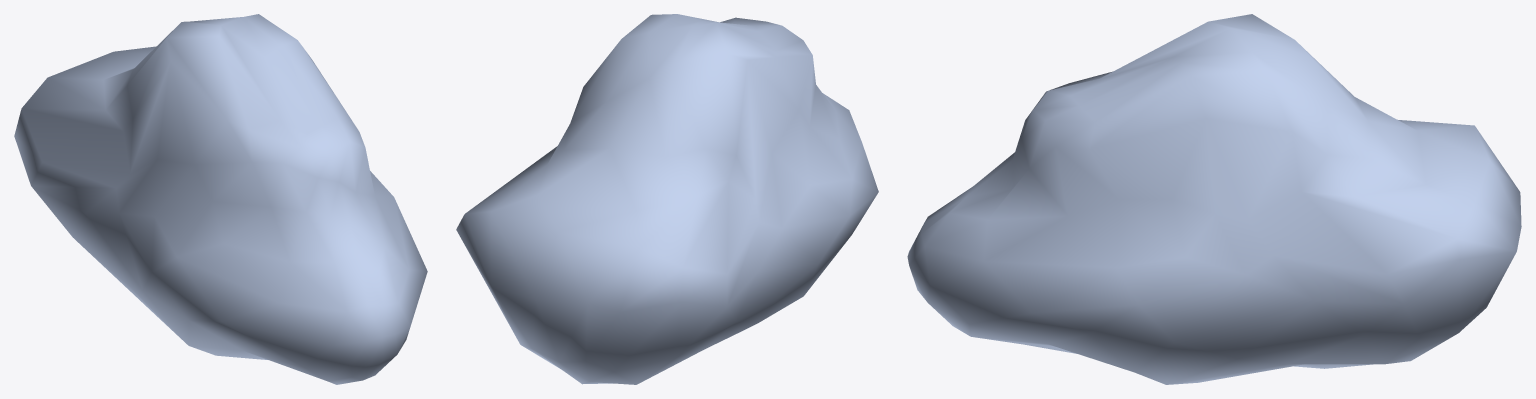
Rendered from oblak.fbx.
The picture shows the model from 3 angles, left to right: view 1: azimuth 30°, elevation 25°; view 2: azimuth 150°, elevation 25°; view 3: azimuth 270°, elevation 25°; orthographic projection. The views are drawn at different scales.
Parts seen in each view (by area): view 1: Icosphere; view 2: Icosphere; view 3: Icosphere.
Boxes of the visible parts, bbox=[...] form: Icosphere: bbox=[14, 14, 427, 384]; Icosphere: bbox=[456, 14, 878, 384]; Icosphere: bbox=[907, 14, 1521, 384].
Size of the model in its own units: 531 by 626 by 1047.
